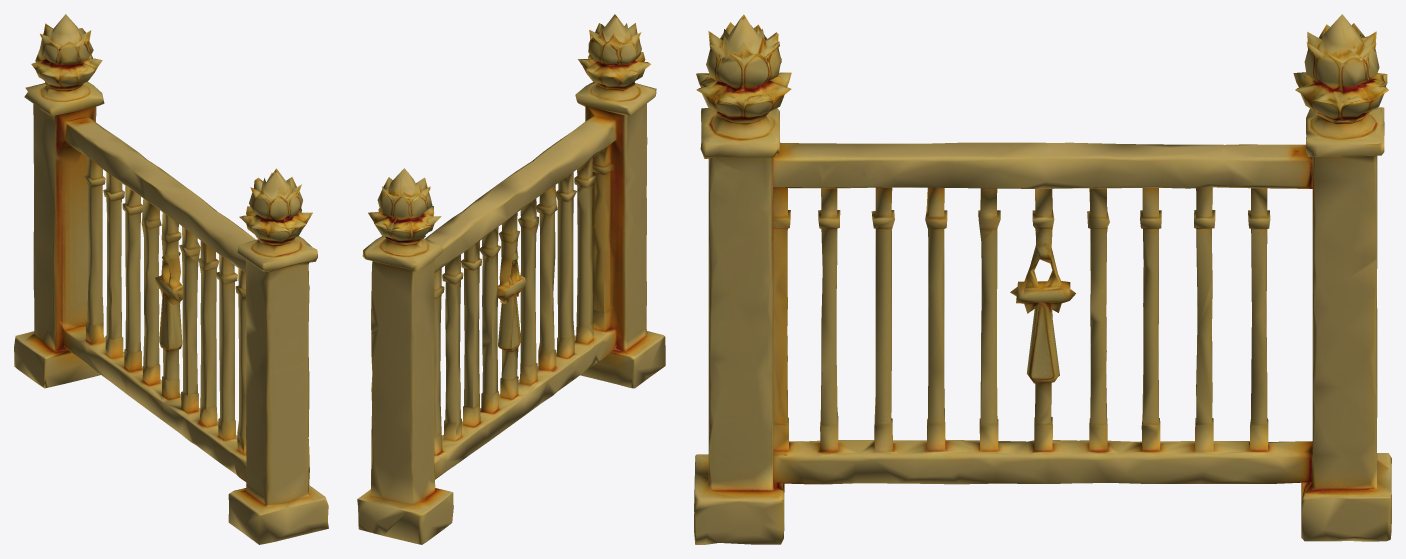
File: et_fence.glb
3 renders of one model, left to right at view 1: azimuth 30°, elevation 25°; view 2: azimuth 150°, elevation 25°; view 3: azimuth 270°, elevation 25°, orthographic. The views are drawn at different scales.
Parts seen in each view (by area): view 1: tripo_node_bb6b421f-1f7a-4d78-826b-aeb91b991cc5; view 2: tripo_node_bb6b421f-1f7a-4d78-826b-aeb91b991cc5; view 3: tripo_node_bb6b421f-1f7a-4d78-826b-aeb91b991cc5.
Part boxes in pixels (left/top/right/bottom): tripo_node_bb6b421f-1f7a-4d78-826b-aeb91b991cc5: left=14, top=14, right=328, bottom=544; tripo_node_bb6b421f-1f7a-4d78-826b-aeb91b991cc5: left=357, top=14, right=665, bottom=544; tripo_node_bb6b421f-1f7a-4d78-826b-aeb91b991cc5: left=694, top=14, right=1391, bottom=544.
Size of the model in its own units: 0.1765 by 0.85 by 1.06.
Materials: 1 (1 with a texture image).
